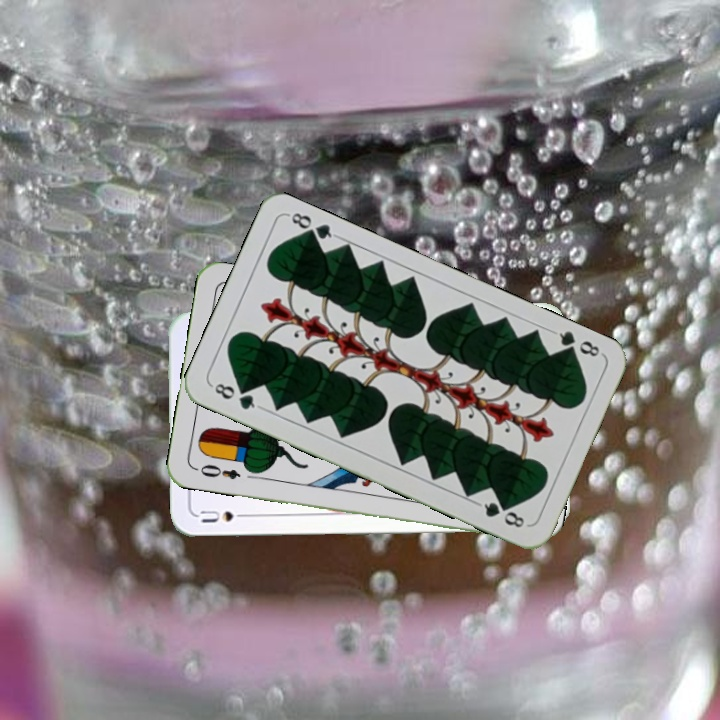EO: (191, 460, 243, 483)
G8: (207, 379, 263, 412), (549, 326, 602, 360)
SU: (197, 505, 254, 525)
